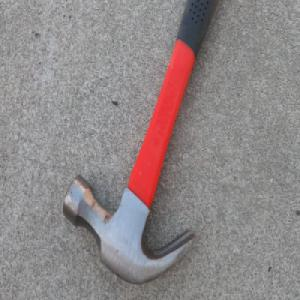Hammer: (61, 0, 220, 288)
